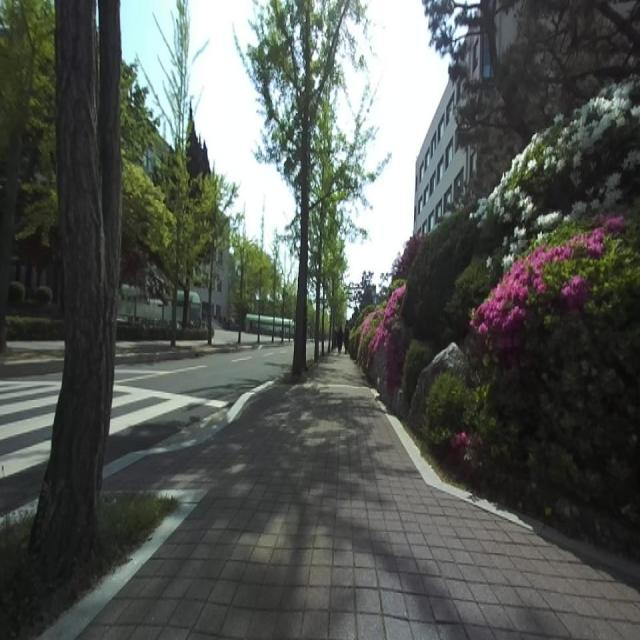sidewalk: (81, 356, 640, 639)
